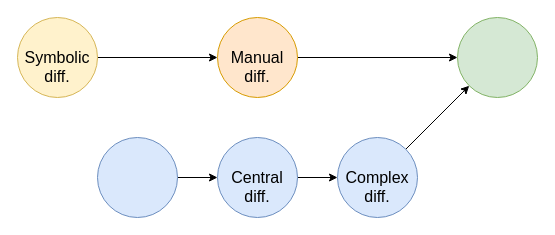
Some shapes in this 555 by 235 pixel diagram are drawn without their labels. The centre of each missing label's shape, as x and y in pixels:
"Automatic diff." belongs at point 497,57.
"Forward diff." belongs at point 137,177.
